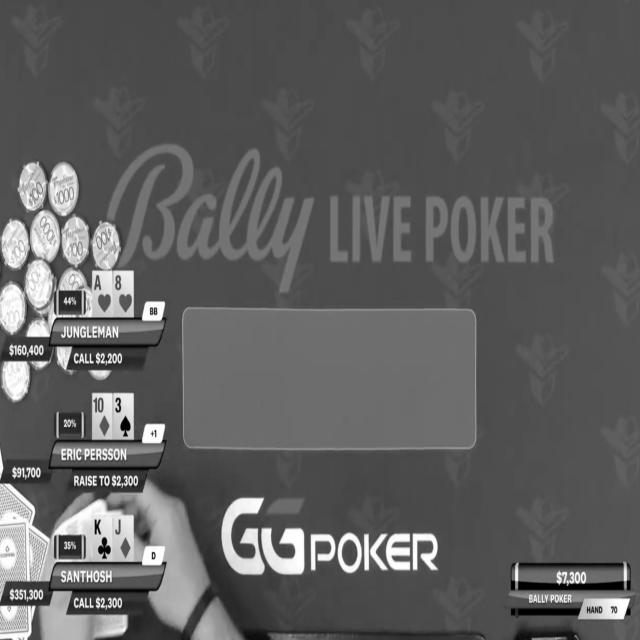10D: (92, 393, 113, 439)
3S: (114, 394, 135, 438)
8H: (114, 269, 135, 318)
AH: (92, 273, 113, 316)
JD: (113, 515, 134, 560)
KC: (91, 516, 113, 561)
